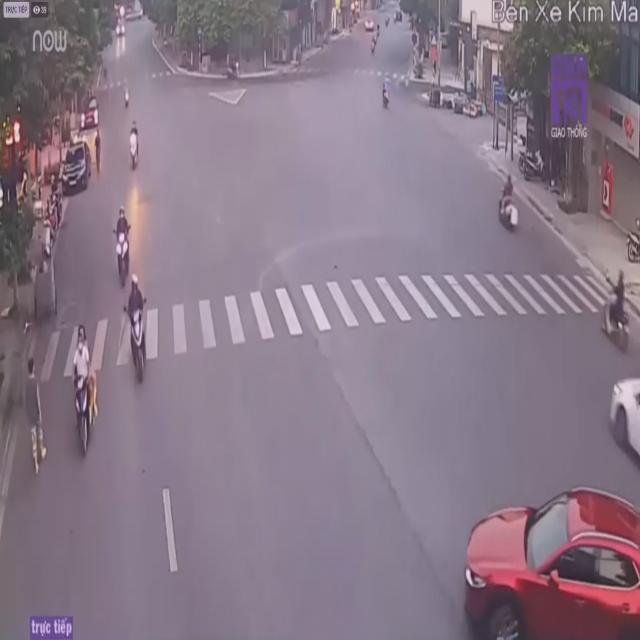car: (454, 485, 640, 640), (609, 371, 640, 466)
motorbike: (122, 270, 151, 390), (73, 322, 96, 458), (604, 271, 630, 353), (110, 208, 133, 286), (497, 175, 518, 235), (128, 122, 142, 170)
